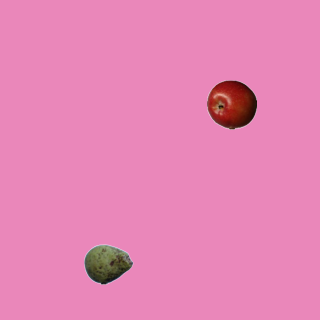Apple Braeburn: (206, 79, 256, 129)
Pear Stone: (83, 239, 133, 289)
